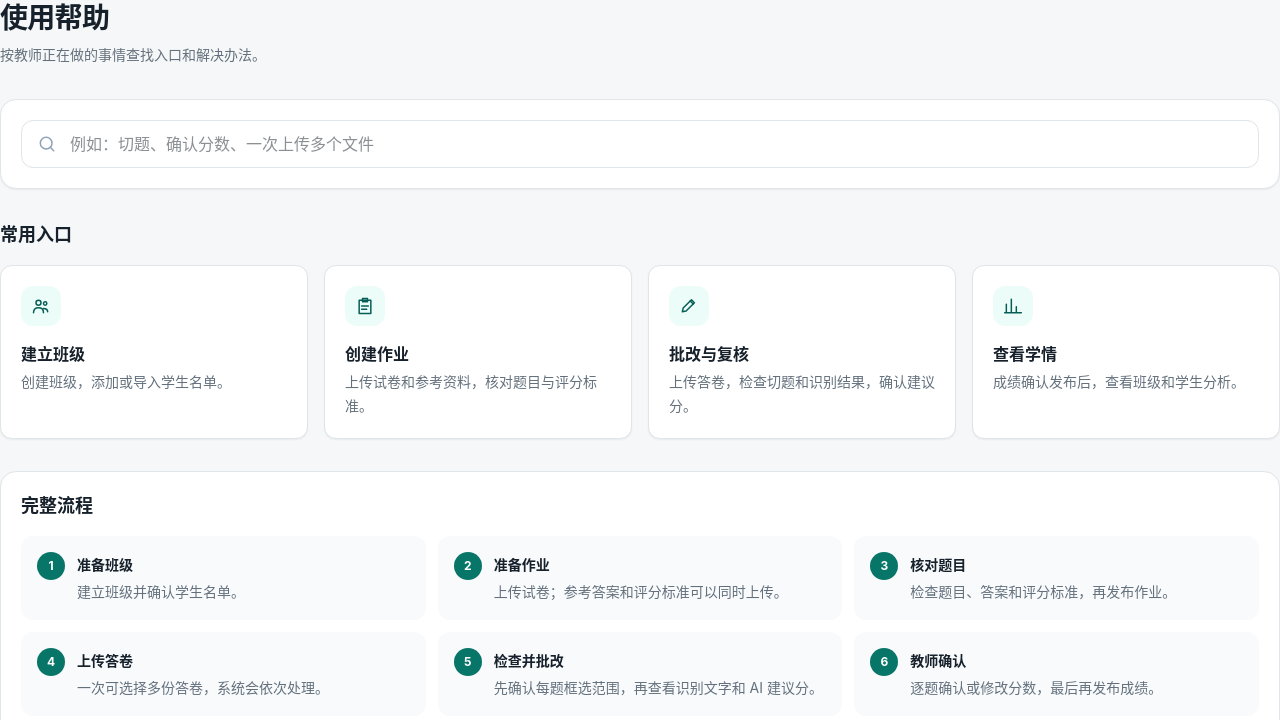
Test: filters help by the teacher's problem and opens matching answers
This screenshot has width=1280, height=720.
Type "切题" into the field with placeholder "例如：切题、确认分数、一次上传多个文件" at (640, 144), box [21, 120, 1259, 168]
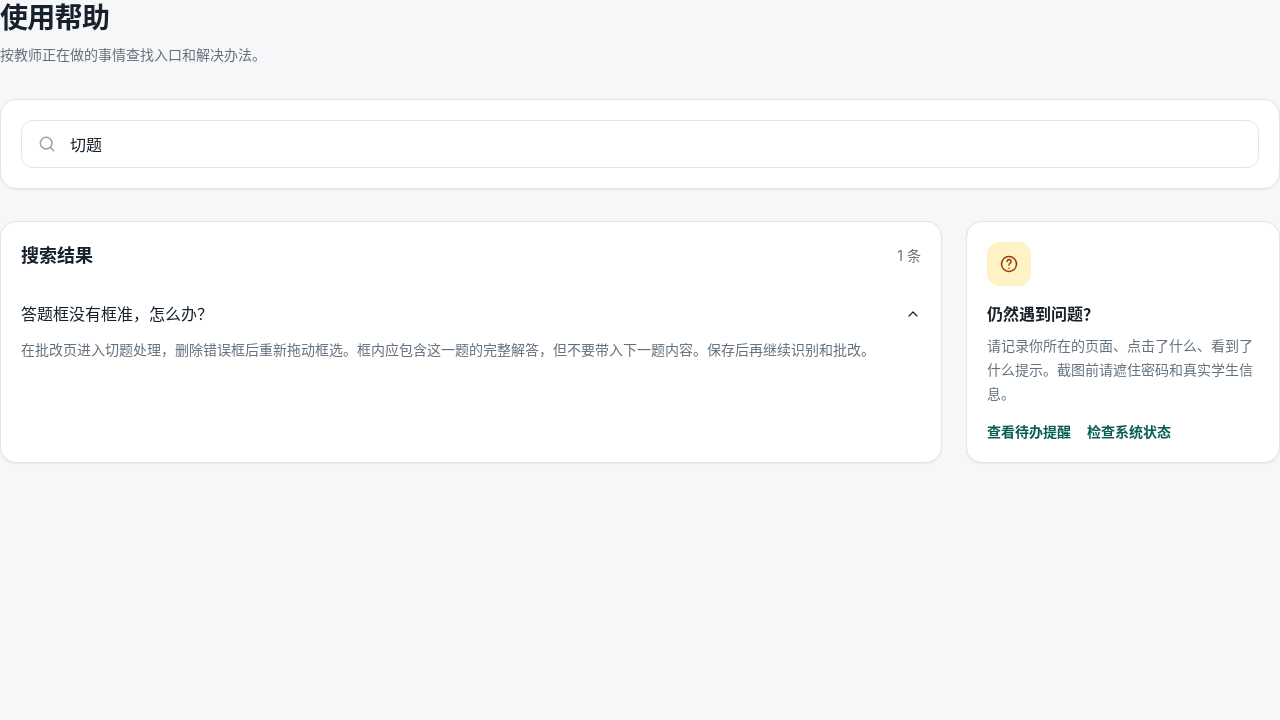
expect the heading "答题框没有框准，怎么办？" is shown: met, box [21, 302, 921, 326]
expect the text "删除错误框后重新拖动框选" is shown: met, box [21, 341, 875, 358]
